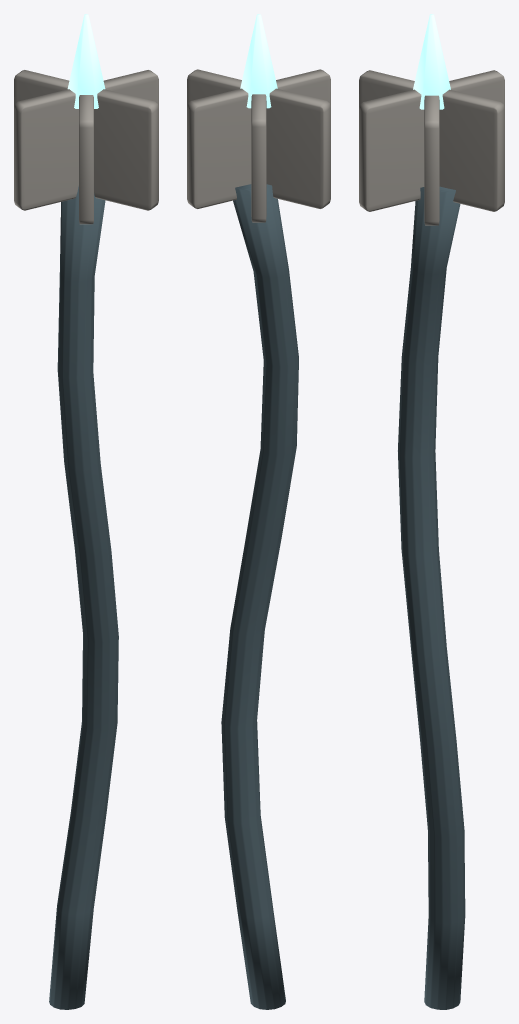
The model's file is SM_Staff_WarMace.fbx.
The picture shows the model from 3 angles, left to right: view 1: azimuth 30°, elevation 25°; view 2: azimuth 150°, elevation 25°; view 3: azimuth 270°, elevation 25°; orthographic projection.
Visible parts, largest first — view 1: Cylinder; view 2: Cylinder; view 3: Cylinder.
Boxes of the visible parts, x1=… form: Cylinder: x1=14, y1=14, x2=158, y2=1009; Cylinder: x1=187, y1=14, x2=330, y2=1009; Cylinder: x1=359, y1=14, x2=504, y2=1009.
Bounding box in the file's own units: 0.3351 × 0.369 × 2.52.
